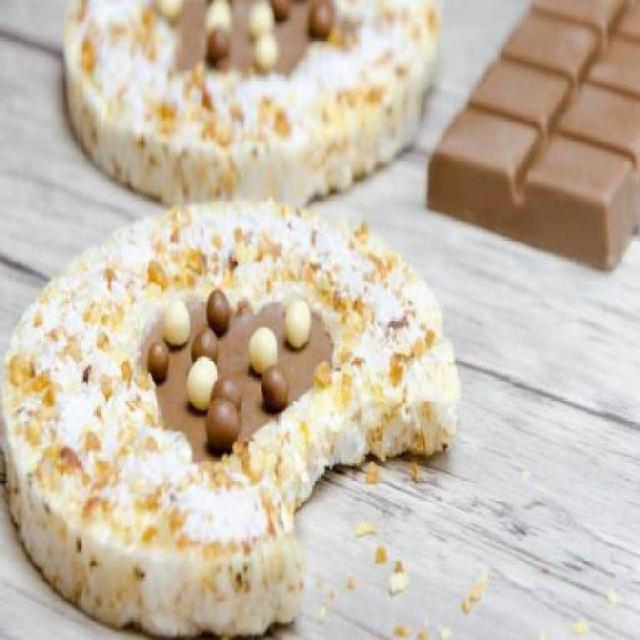Chocolate bar packaged: (427, 1, 638, 270)
Gallette di riso packaged: (4, 201, 461, 637)
